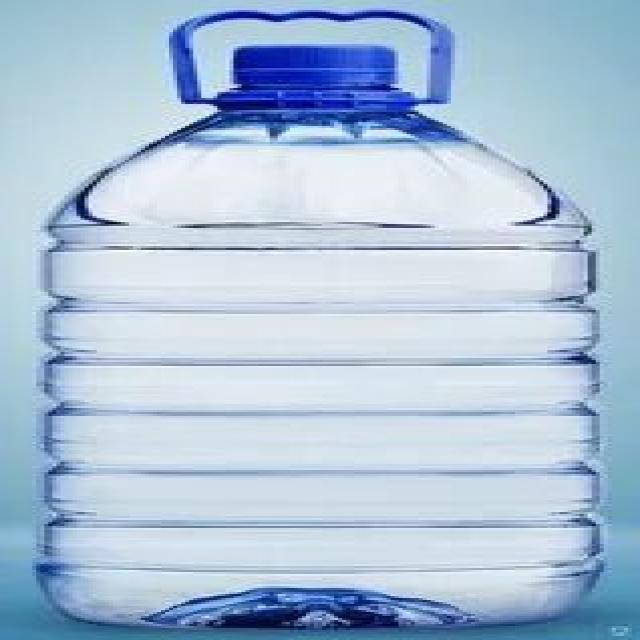blue: (47, 86, 604, 626)
